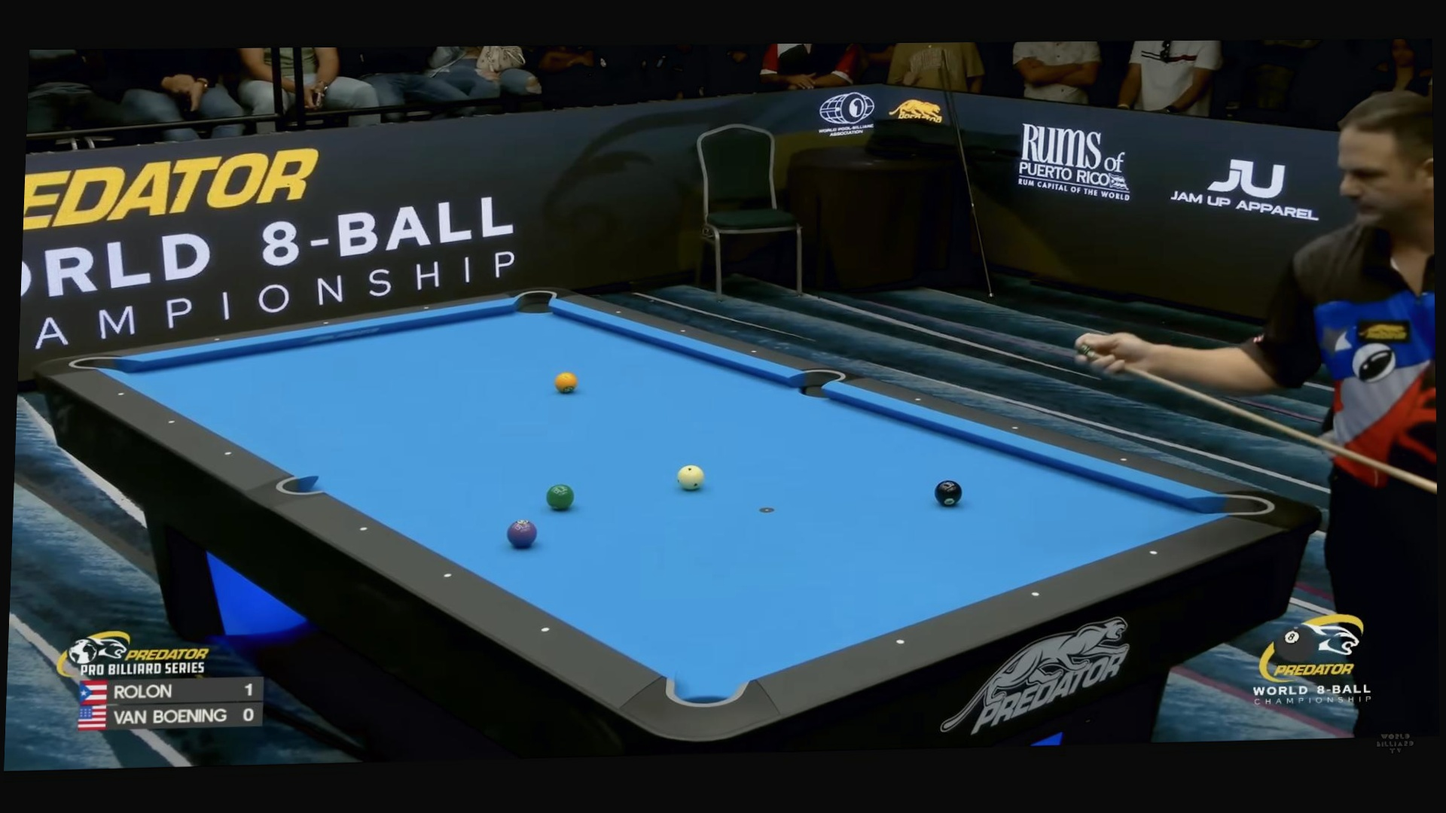Black: (934, 480, 963, 507)
Cue: (677, 464, 705, 491)
Solid: (893, 637, 907, 649), (1147, 546, 1161, 558), (1029, 588, 1042, 600), (539, 625, 551, 636), (441, 571, 453, 581), (357, 524, 369, 534), (224, 450, 233, 458), (167, 418, 176, 426), (116, 390, 125, 398), (214, 336, 221, 342), (322, 320, 329, 326), (423, 305, 430, 311), (1121, 456, 1127, 462), (915, 397, 921, 403), (615, 309, 621, 315), (751, 349, 757, 355), (679, 328, 686, 333), (1012, 426, 1018, 430)
Striped: (507, 519, 537, 546), (546, 484, 574, 511), (554, 372, 577, 394)
